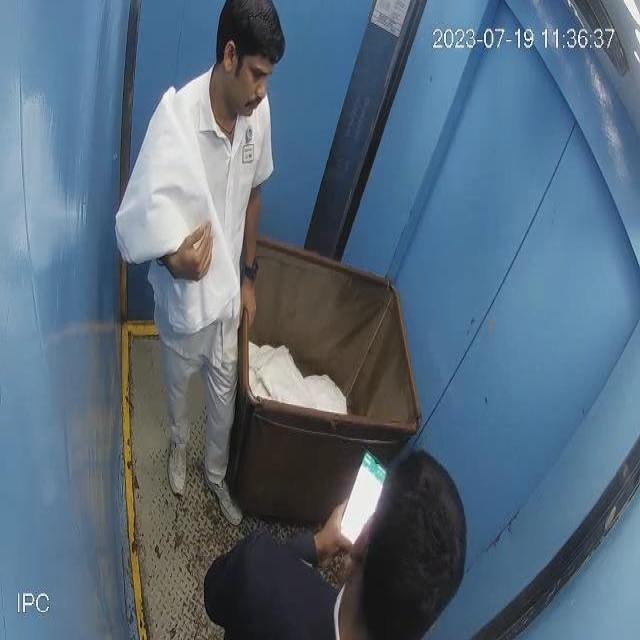person: (115, 0, 276, 531), (202, 440, 471, 640)
